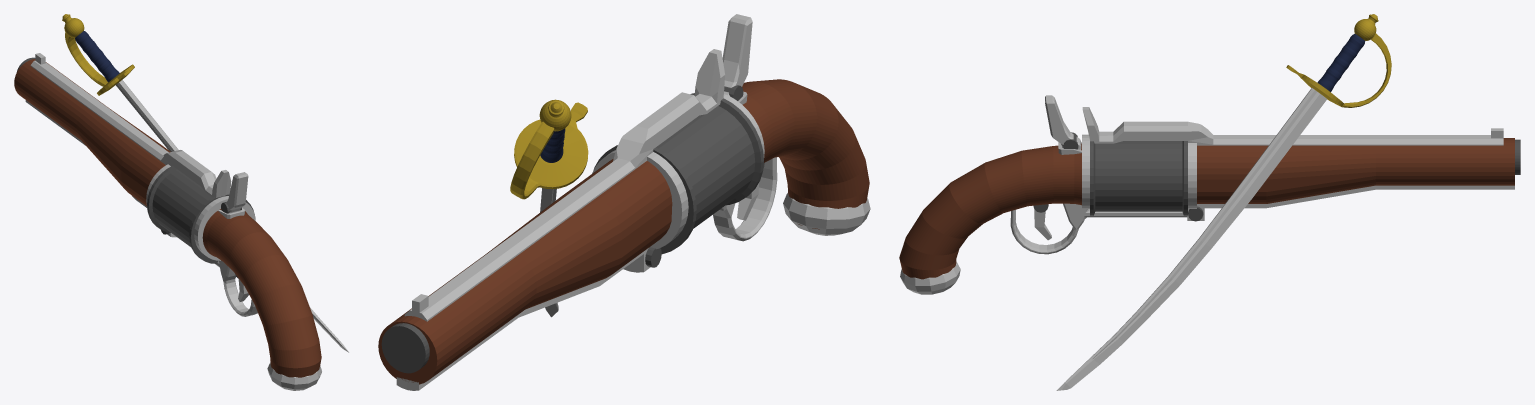
File: WEAPONS.fbx
The picture shows the model from 3 angles, left to right: view 1: azimuth 30°, elevation 25°; view 2: azimuth 150°, elevation 25°; view 3: azimuth 270°, elevation 25°; orthographic projection. The views are drawn at different scales.
Visible parts, largest first — view 1: barrel, handle, sword, hammer; view 2: barrel, handle, sword, hammer; view 3: barrel, handle, sword, hammer.
Part boxes in pixels (box(x1,y1,x2,y2)): barrel: box(14, 53, 254, 263); handle: box(194, 196, 321, 390); sword: box(62, 14, 349, 352); hammer: box(221, 172, 248, 213); barrel: box(378, 49, 763, 390); handle: box(694, 79, 870, 241); sword: box(510, 99, 588, 317); hammer: box(722, 14, 752, 100); barrel: box(1082, 107, 1520, 221); handle: box(899, 134, 1187, 294); sword: box(1056, 14, 1391, 390); hammer: box(1045, 95, 1081, 149).
Size of the model in its own units: 217 by 384 by 721.
